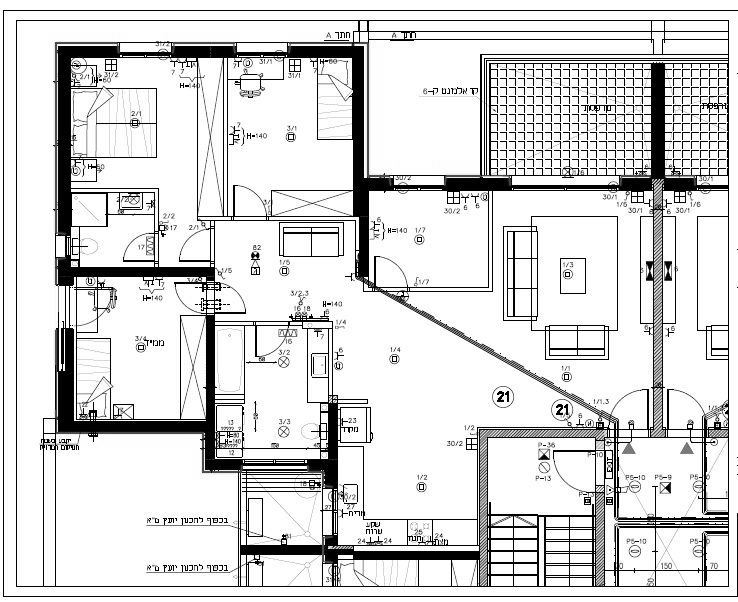door: (550, 446, 599, 498), (663, 388, 712, 440), (605, 387, 654, 439), (70, 282, 118, 329), (370, 254, 416, 297), (121, 230, 163, 267), (229, 183, 271, 220), (178, 227, 220, 264), (207, 280, 249, 317), (170, 279, 212, 316), (251, 323, 294, 358)
room: (57, 267, 216, 433), (202, 307, 361, 473), (223, 42, 365, 214), (56, 42, 196, 192), (204, 320, 335, 474)
wall: (56, 42, 70, 236), (57, 329, 73, 434)
window: (508, 174, 623, 191), (240, 458, 311, 476), (117, 42, 173, 59), (391, 174, 447, 191), (234, 42, 289, 58)
